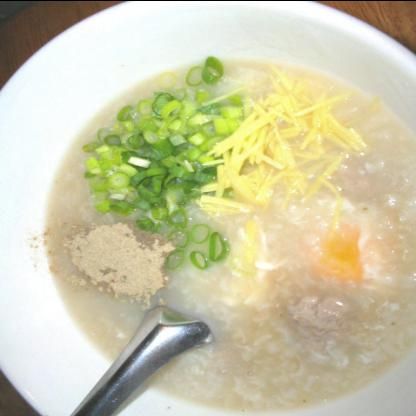Joke: (36, 56, 410, 410)
